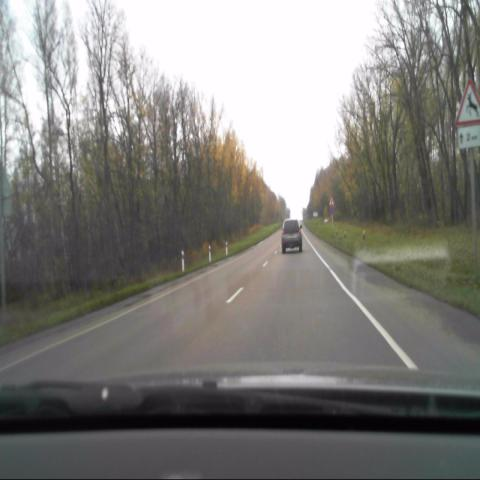1_27: (455, 81, 479, 123)
